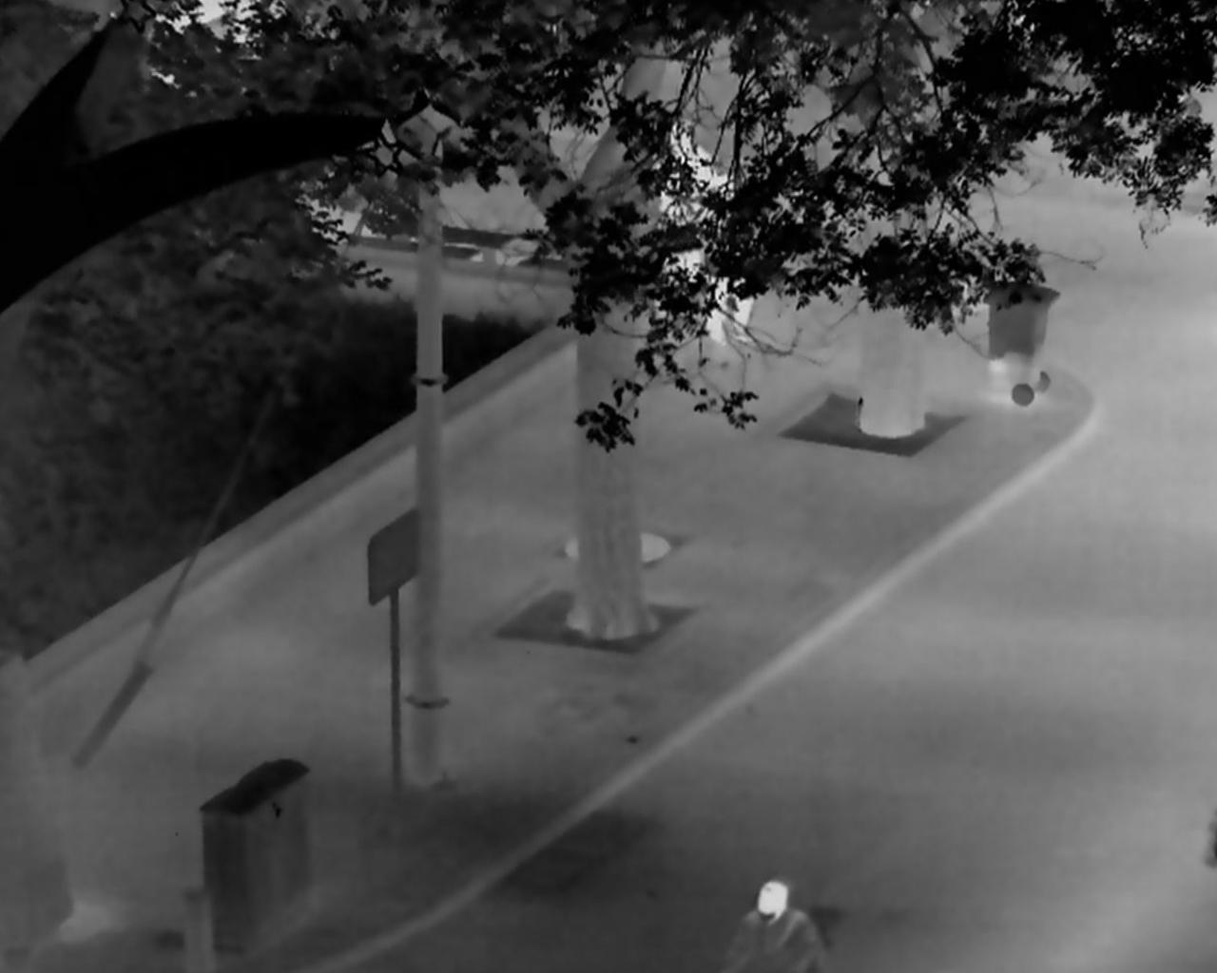person: (654, 118, 721, 296), (695, 171, 759, 346), (721, 878, 825, 973)
